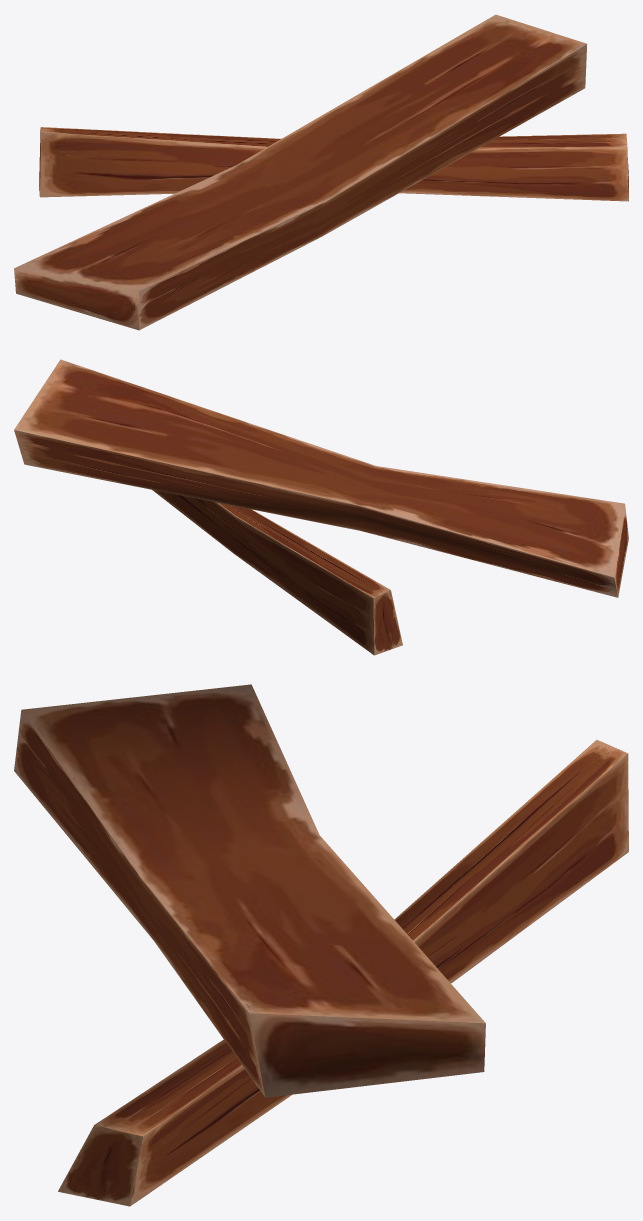
The model's file is SM_PROP_planks_01.glb.
The picture shows the model from 3 angles, top to bottom: view 1: azimuth 30°, elevation 25°; view 2: azimuth 150°, elevation 25°; view 3: azimuth 270°, elevation 25°; orthographic projection. The views are drawn at different scales.
Visible parts, largest first — view 1: SM_PROP_planks_01_EXPORT; view 2: SM_PROP_planks_01_EXPORT; view 3: SM_PROP_planks_01_EXPORT.
Part boxes in pixels (box(x1,y1,x2,y2)): SM_PROP_planks_01_EXPORT: box(14, 14, 628, 330); SM_PROP_planks_01_EXPORT: box(14, 359, 628, 655); SM_PROP_planks_01_EXPORT: box(14, 684, 628, 1206).
Bounding box in the file's own units: 1.92 × 0.3711 × 1.04.
1 material, 1 textured.
